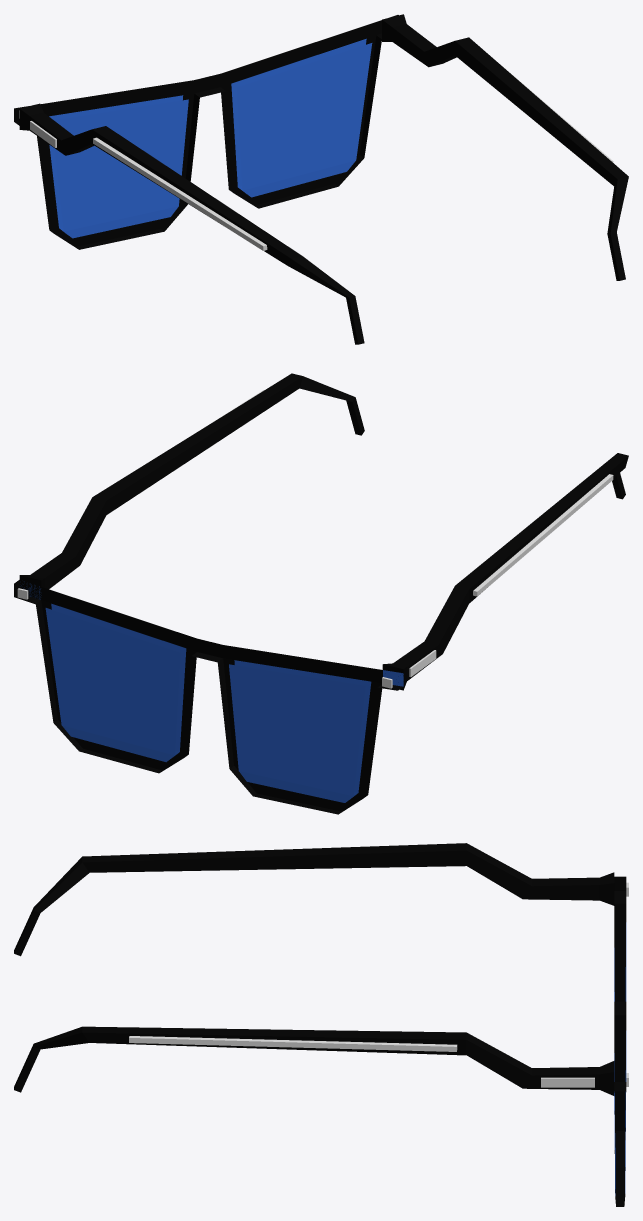
Rendered from Glasses A4 .fbx.
The picture shows the model from 3 angles, top to bottom: view 1: azimuth 30°, elevation 25°; view 2: azimuth 150°, elevation 25°; view 3: azimuth 270°, elevation 25°; orthographic projection. The views are drawn at different scales.
Parts seen in each view (by area): view 1: Cube; view 2: Cube; view 3: Cube.
Boxes of the visible parts, x1,y1,x2,y2 form: Cube: (14,14,628,344); Cube: (14,373,628,814); Cube: (14,843,628,1206).
Size of the model in its own units: 424 by 198 by 550.
